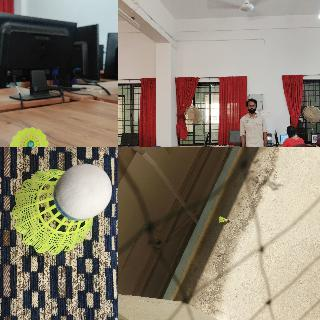shuttlecock: (11, 164, 111, 254), (9, 127, 49, 146), (218, 215, 228, 222)
